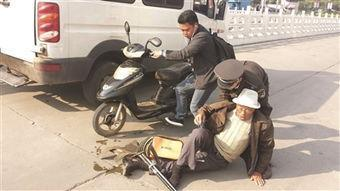Fall-Detected: (87, 82, 281, 187)
